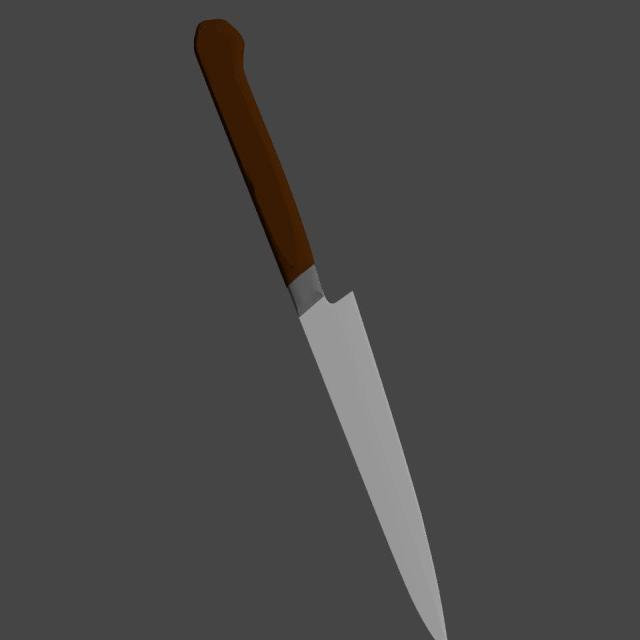knife: (194, 19, 315, 289)
